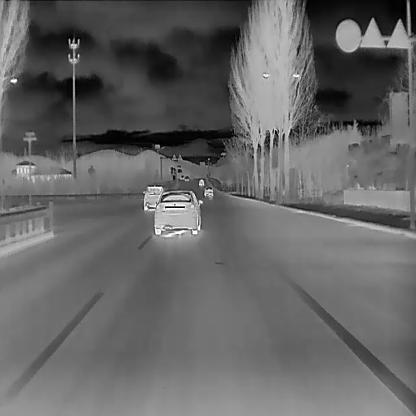car: (152, 188, 204, 236), (141, 184, 165, 210), (202, 185, 213, 197), (197, 177, 204, 186), (183, 175, 189, 181), (179, 174, 184, 179)
